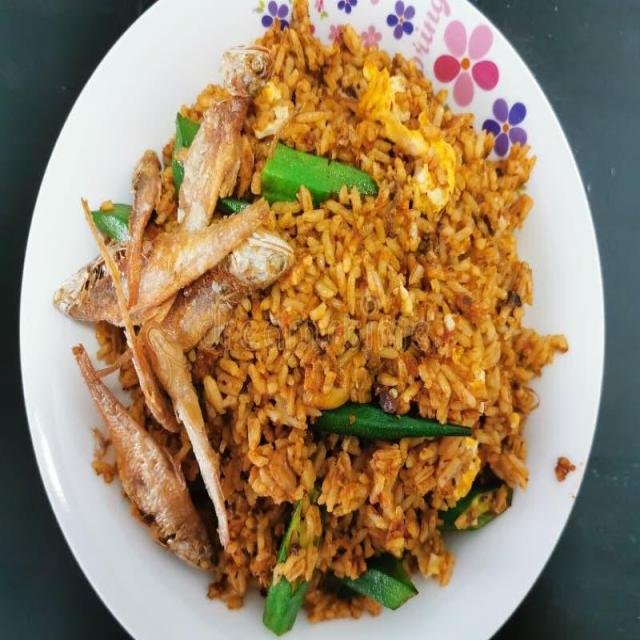Nasi Goreng: (54, 1, 570, 633)
